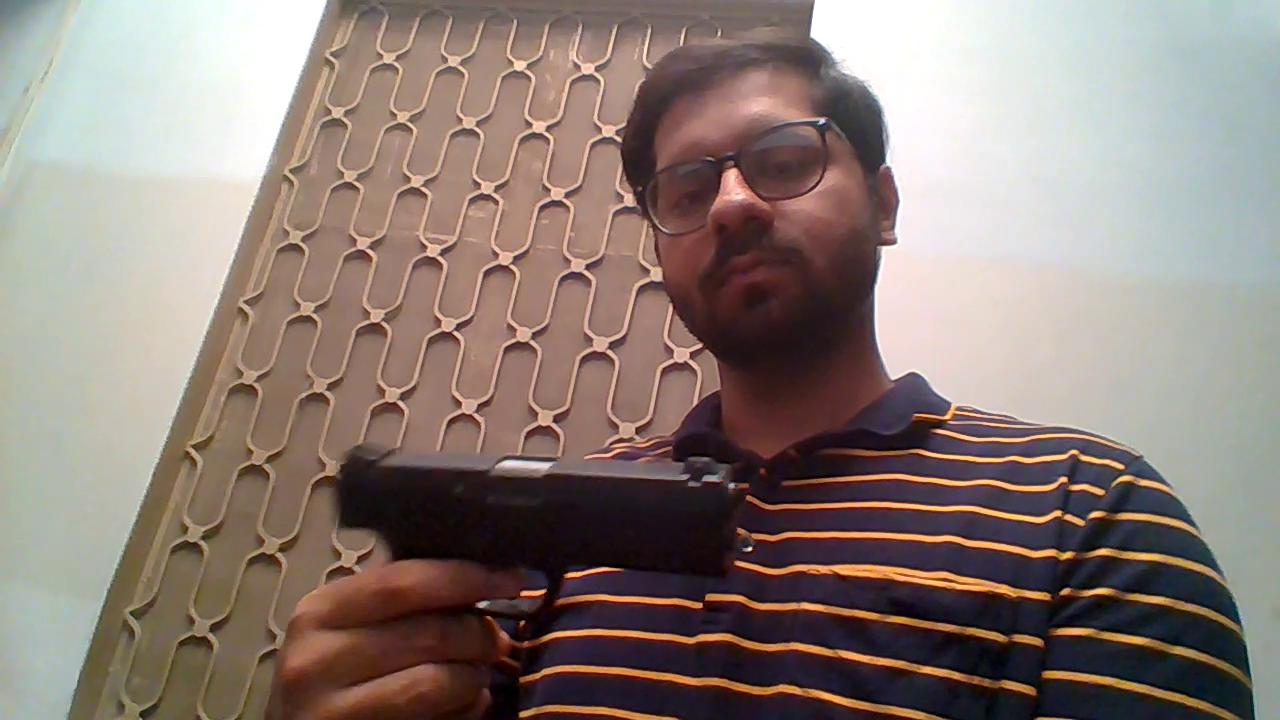criminal: (262, 25, 1254, 720)
weapon: (326, 443, 738, 626)
